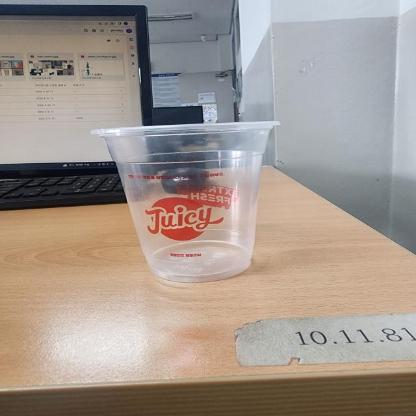Plastic Cup: (92, 122, 282, 280)
